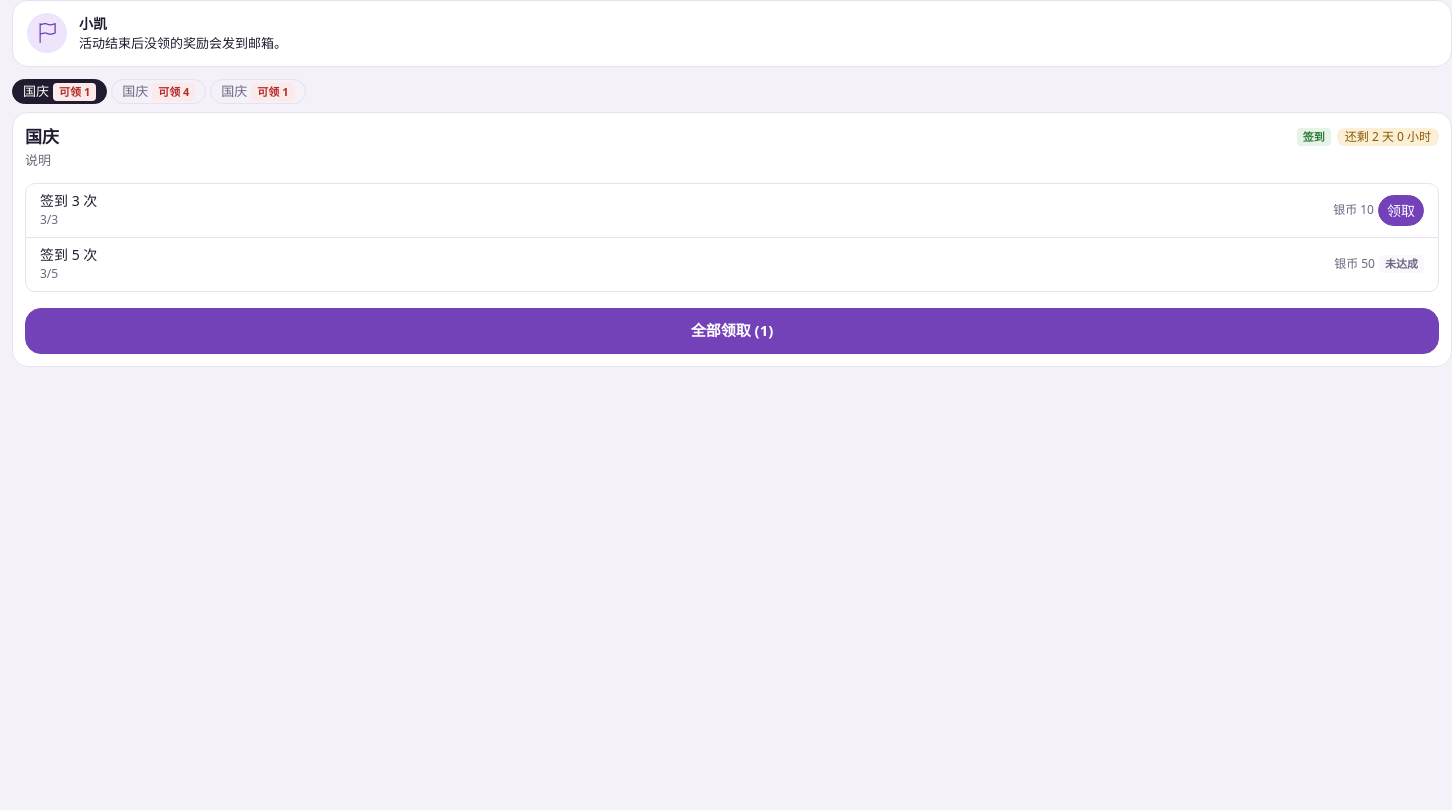
Test case: ActivitiesView › 九宫格：画成 3×3，完成的格子和线有标记
What coordinates should you click on to do the following:
click the tab with test id "act-tab-2"
I would click on:
 (159, 91)
Its box is [111, 78, 206, 104].
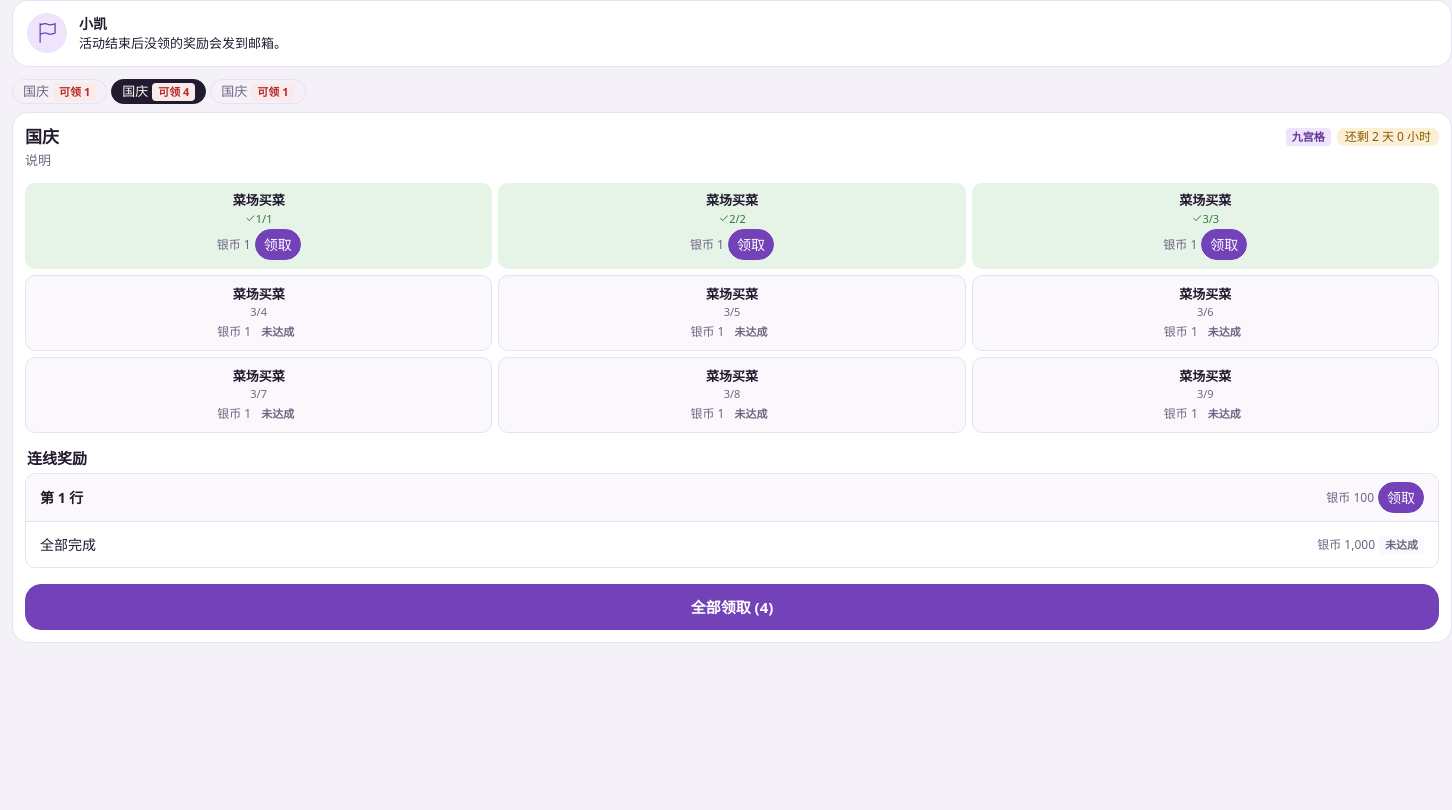
expect the element with class "dt-row" showing "第 1 行 银币 100 领取" is shown: met, box [26, 474, 1438, 521]
expect the button with test id "claim-2-r0" is shown: met, box [1378, 482, 1424, 513]
